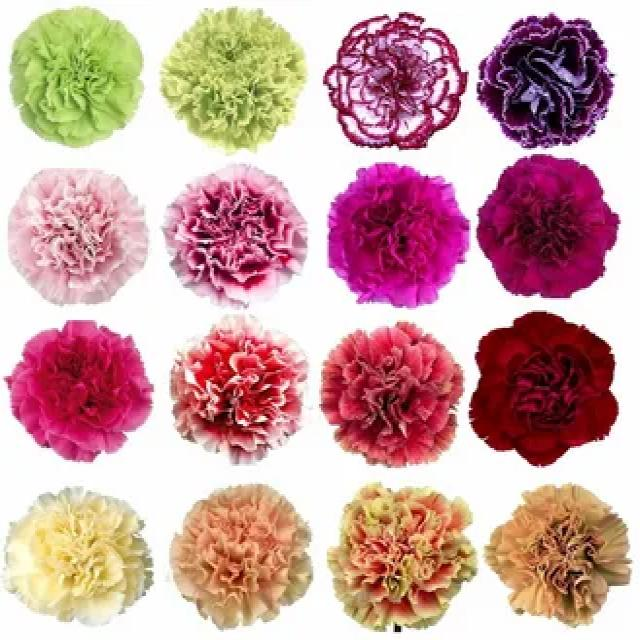carnation: (464, 321, 640, 471), (0, 470, 154, 640), (162, 315, 318, 477), (314, 160, 478, 314), (0, 160, 156, 311)
